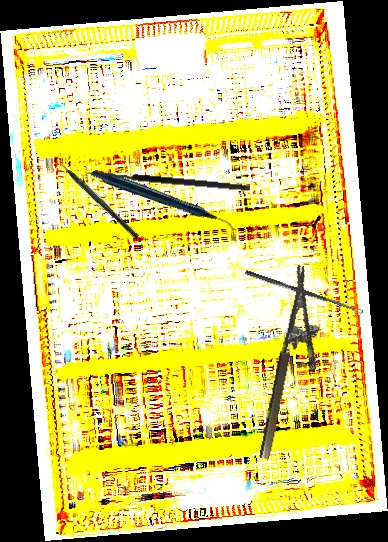Chopper: (51, 151, 145, 240)
Handpiece: (89, 124, 235, 279)
Hook Surgical: (82, 169, 251, 200)
Needle Holder: (257, 265, 336, 465)
Surgical Spoon: (244, 269, 364, 316)
